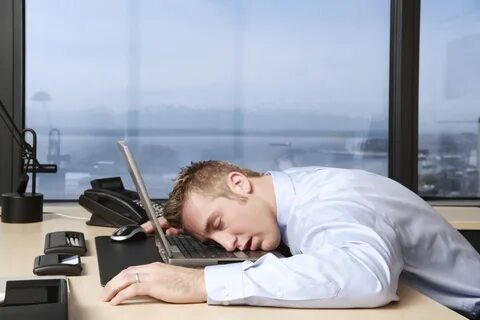sleep: (135, 160, 475, 310)
